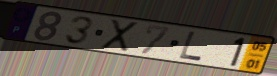1: (228, 37, 247, 68)
3: (64, 16, 95, 46)
7: (139, 23, 171, 56)
8: (33, 10, 64, 42)
L: (178, 30, 204, 63)
X: (100, 18, 140, 53)
